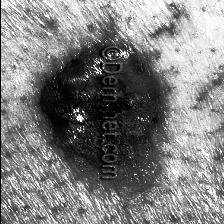Potentially Malignant Skin Tumors: (120, 50, 158, 148)
